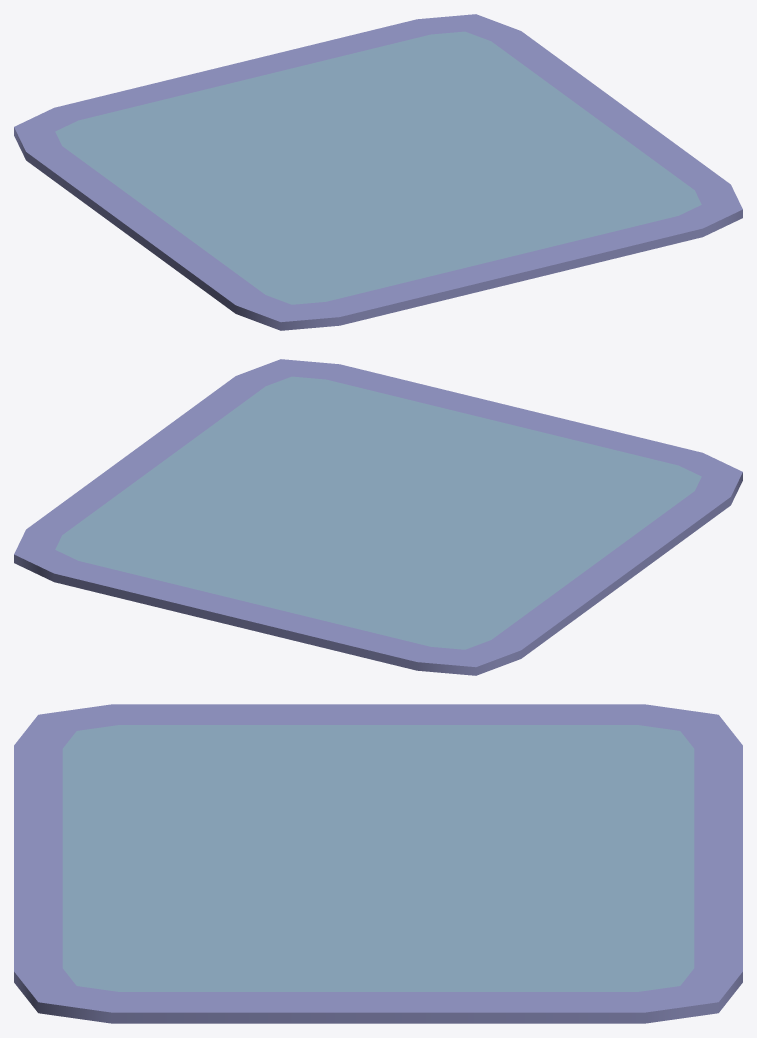
The model's file is carpet-rectangle-border-square.glb.
3 views of the same model, one above another, from view 1: azimuth 30°, elevation 25°; view 2: azimuth 150°, elevation 25°; view 3: azimuth 270°, elevation 25° (orthographic). The views are drawn at different scales.
Visible parts, largest first — view 1: carpet-rectangle-border-square; view 2: carpet-rectangle-border-square; view 3: carpet-rectangle-border-square.
Boxes of the visible parts, bbox=[...] form: carpet-rectangle-border-square: bbox=[14, 14, 742, 330]; carpet-rectangle-border-square: bbox=[14, 359, 742, 675]; carpet-rectangle-border-square: bbox=[14, 704, 742, 1023].
Size of the model in its own units: 1.5 by 0.025 by 1.5.
